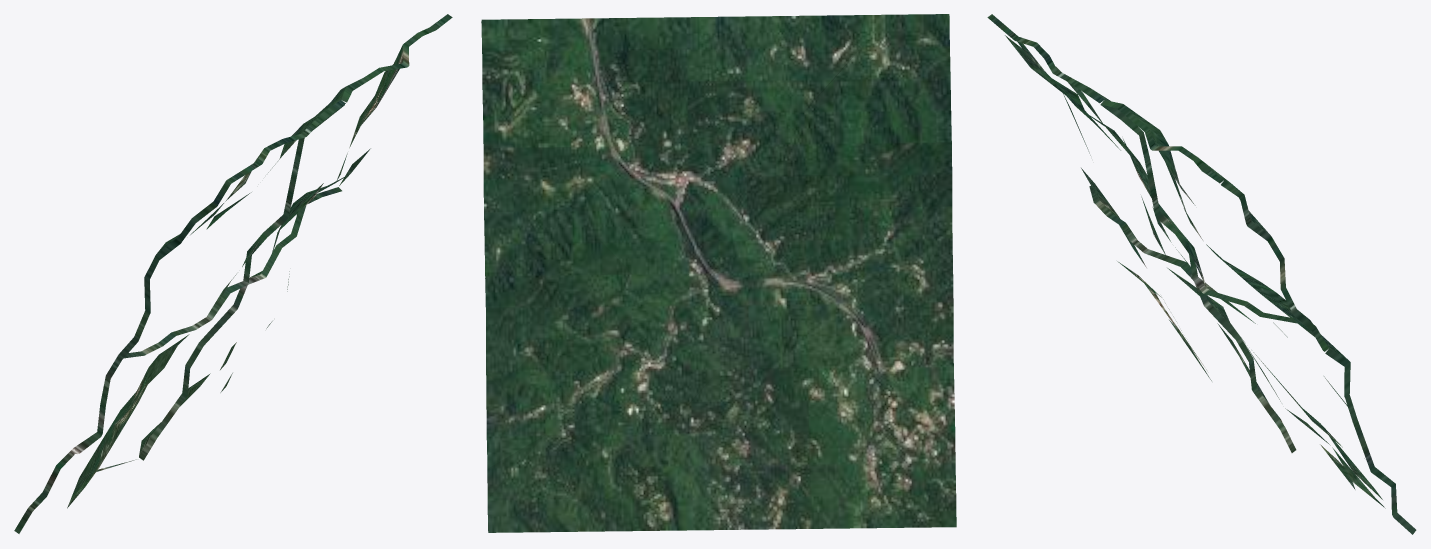
3 views of the same model, side by side, from view 1: azimuth 30°, elevation 25°; view 2: azimuth 150°, elevation 25°; view 3: azimuth 270°, elevation 25° (orthographic). The views are drawn at different scales.
Bounding box in the file's own units: 5072 × 4428 × 4224.
Materials: 1 (1 with a texture image).
